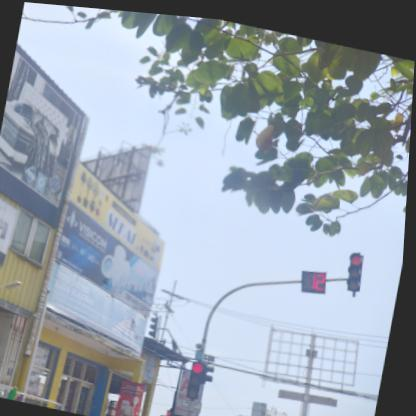red: (346, 243, 371, 287), (191, 357, 209, 396)
